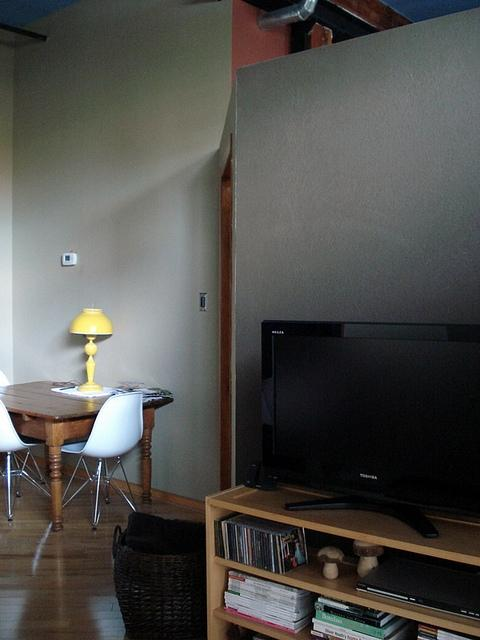mushroom: (352, 539, 385, 579), (317, 546, 344, 580)
